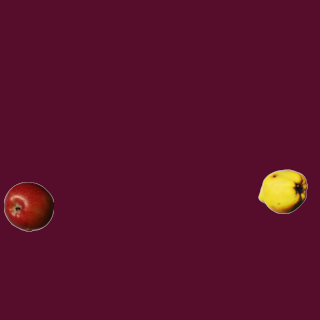Apple Braeburn: (3, 181, 53, 231)
Quince: (257, 166, 307, 216)
